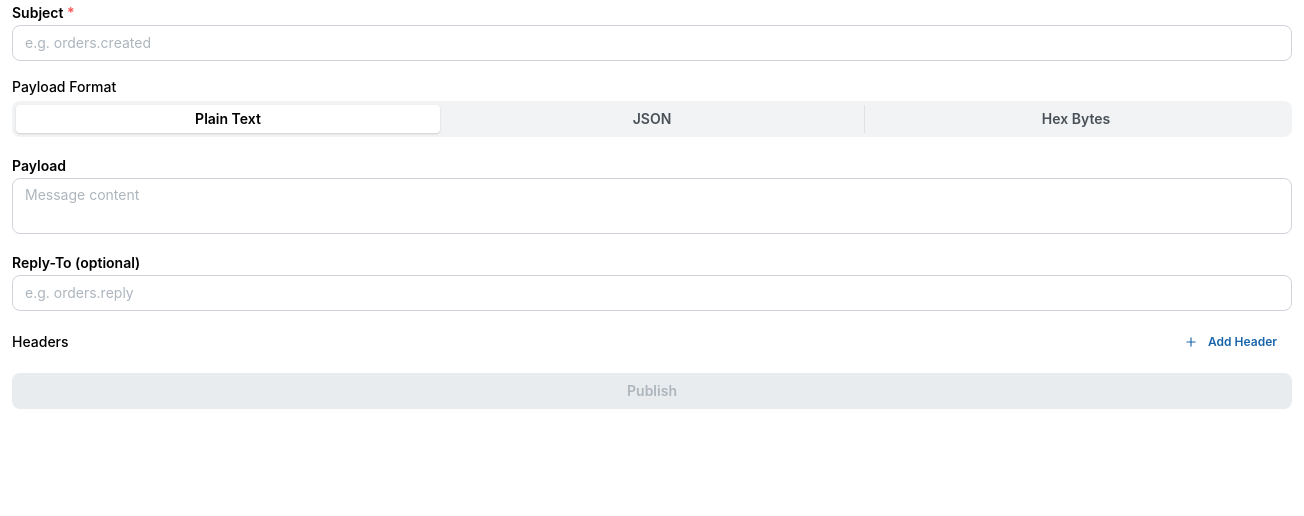
Test: shows success notification after mutation success
Type "test.subject" into the field labelled "Subject *". click: point(652, 43)
box: [12,25,1292,61]
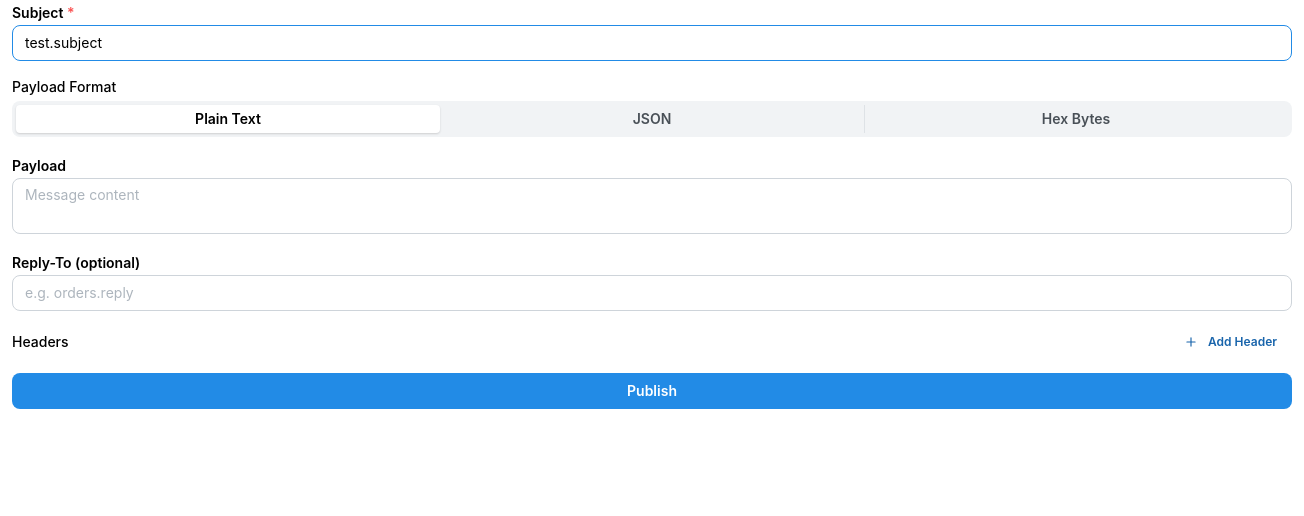
Click the button "Publish". click: point(652, 391)
box: [12,373,1292,409]
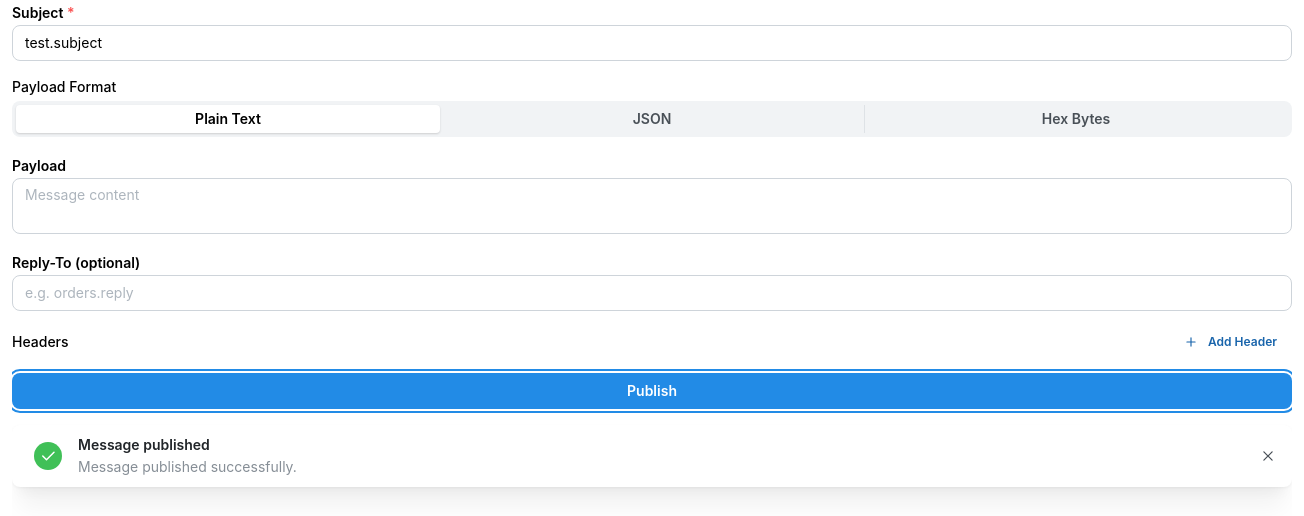
Check: the text "Message published successfully." is shown, box [78,458,297,475]
